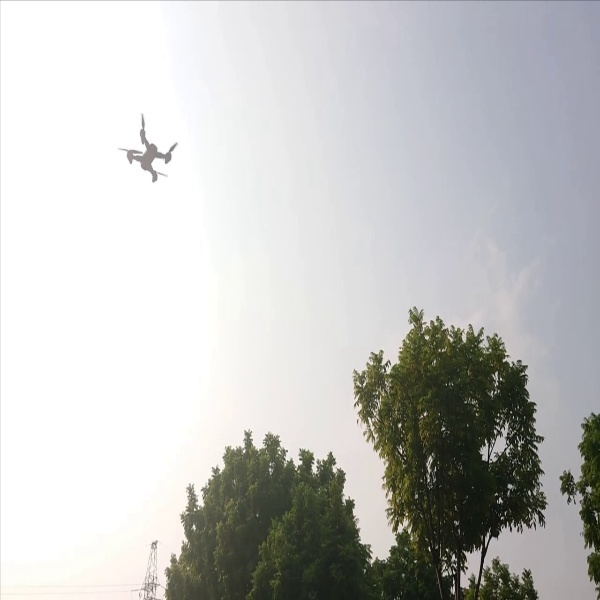drone: (114, 113, 183, 186)
